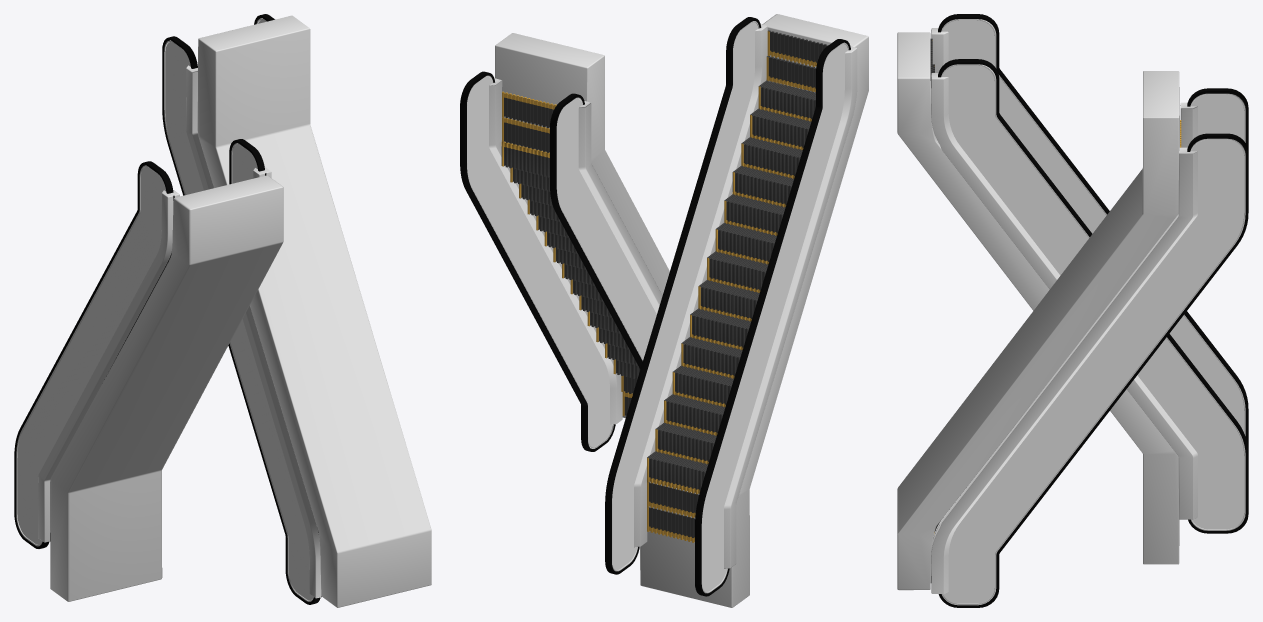
The model's file is escalators.fbx.
The picture shows the model from 3 angles, left to right: view 1: azimuth 30°, elevation 25°; view 2: azimuth 150°, elevation 25°; view 3: azimuth 270°, elevation 25°; orthographic projection. The views are drawn at different scales.
Parts seen in each view (by area): view 1: imagetostl_mesh45, imagetostl_mesh22, imagetostl_mesh5, imagetostl_mesh28, imagetostl_mesh8, imagetostl_mesh31, imagetostl_mesh6, imagetostl_mesh29, imagetostl_mesh7, imagetostl_mesh30, imagetostl_mesh0; view 2: imagetostl_mesh10, imagetostl_mesh23, imagetostl_mesh5, imagetostl_mesh0, imagetostl_mesh22, imagetostl_mesh45, imagetostl_mesh28, imagetostl_mesh8, imagetostl_mesh33, imagetostl_mesh3, imagetostl_mesh6, imagetostl_mesh1 (+14 smaller); view 3: imagetostl_mesh45, imagetostl_mesh23, imagetostl_mesh0, imagetostl_mesh22, imagetostl_mesh26, imagetostl_mesh5, imagetostl_mesh3, imagetostl_mesh1, imagetostl_mesh24, imagetostl_mesh6, imagetostl_mesh28, imagetostl_mesh25 (+5 smaller).
Part boxes in pixels (x1,y1,x2,y2): imagetostl_mesh45: (197,15,431,607); imagetostl_mesh22: (50,175,283,601); imagetostl_mesh5: (17,167,166,544); imagetostl_mesh28: (165,42,313,600); imagetostl_mesh8: (38,190,179,542); imagetostl_mesh31: (186,65,321,598); imagetostl_mesh6: (14,161,173,548); imagetostl_mesh29: (162,36,320,604); imagetostl_mesh7: (16,165,163,546); imagetostl_mesh30: (164,40,313,601); imagetostl_mesh0: (232,144,257,183); imagetostl_mesh10: (647,80,815,489); imagetostl_mesh23: (467,77,612,447); imagetostl_mesh5: (702,44,847,591); imagetostl_mesh0: (612,22,758,569); imagetostl_mesh22: (640,14,868,607); imagetostl_mesh45: (495,33,669,418); imagetostl_mesh28: (557,98,656,359); imagetostl_mesh8: (724,46,857,568); imagetostl_mesh33: (501,146,640,379); imagetostl_mesh3: (634,24,767,547); imagetostl_mesh6: (695,39,850,596); imagetostl_mesh1: (605,17,761,574); imagetostl_mesh45: (897,71,1179,590); imagetostl_mesh23: (942,139,1244,603); imagetostl_mesh0: (942,65,1244,529); imagetostl_mesh22: (897,32,1179,564); imagetostl_mesh26: (931,147,1197,593); imagetostl_mesh5: (942,20,1244,432); imagetostl_mesh3: (931,73,1197,519); imagetostl_mesh1: (938,59,1248,533); imagetostl_mesh24: (938,133,1248,607); imagetostl_mesh6: (938,14,1248,453); imagetostl_mesh28: (1191,94,1244,140); imagetostl_mesh25: (941,138,1245,605).
Bounding box in the file's own units: 1093 × 2130 × 1302.
